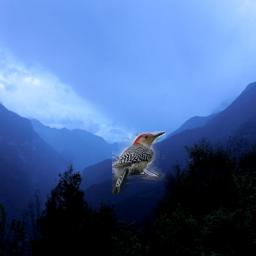Woodpecker: (112, 131, 166, 194)
